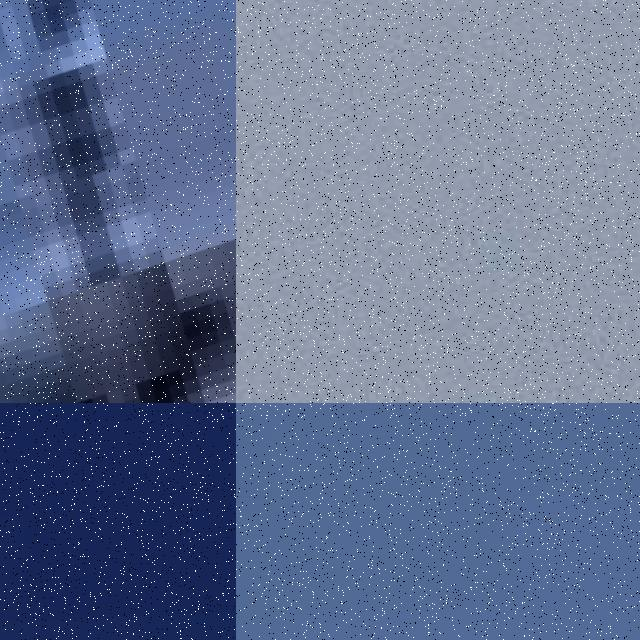drone: (0, 0, 236, 403)
